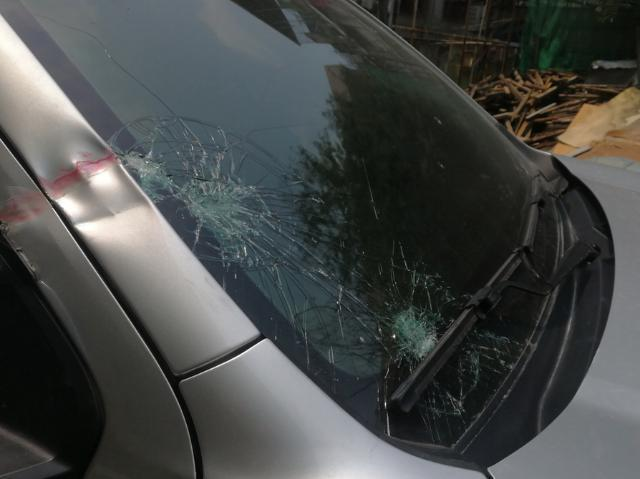Fender: (0, 119, 131, 282)
Windshield: (125, 88, 546, 456)
